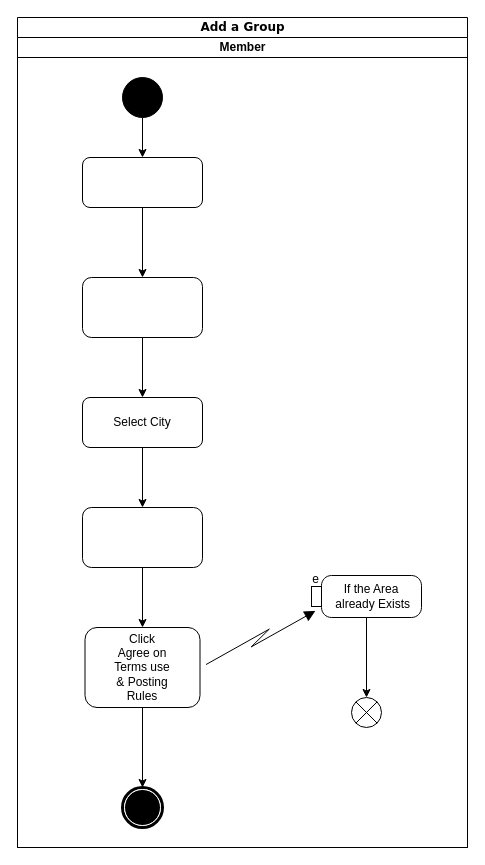
The diagram is 485 pixels wide and 865 high, and some of its shapes have lost their labels. Here are the shapes that lost their labels. From the top down, the centre of each, then its label:
point 142,182: Go to Add Group Form
point 142,307: Select Country
point 142,537: Select Area
